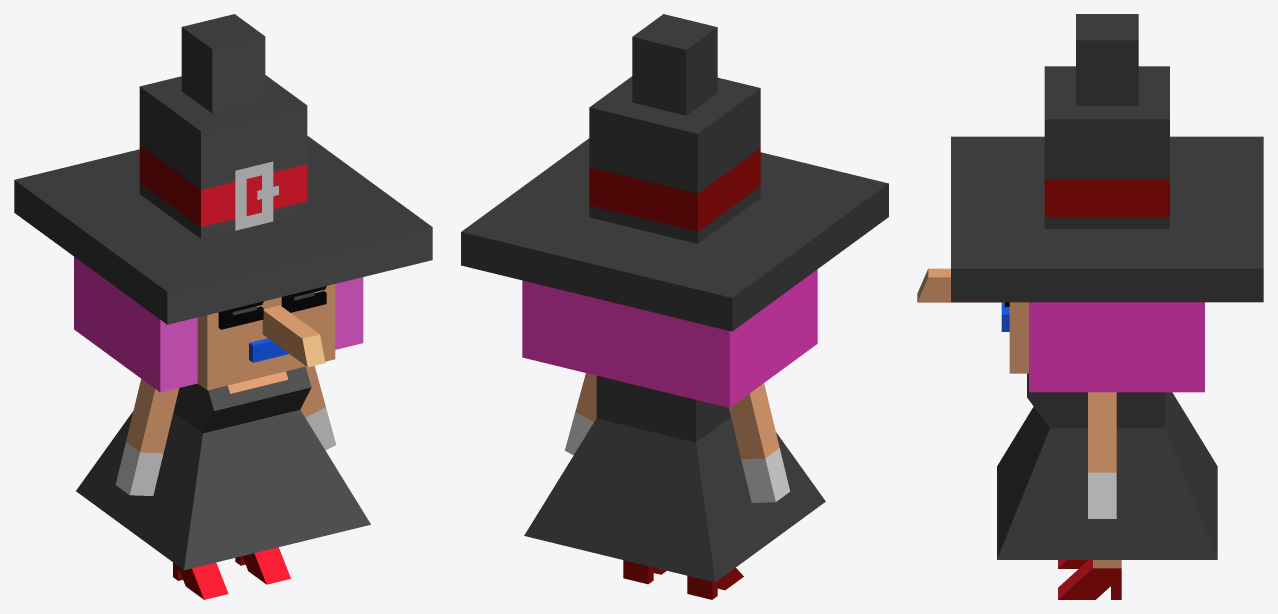
3 views of the same model, side by side, from view 1: azimuth 30°, elevation 25°; view 2: azimuth 150°, elevation 25°; view 3: azimuth 270°, elevation 25° (orthographic). The views are drawn at different scales.
Parts seen in each view (by area): view 1: Ch_47_Head, Ch_47, Ch_47_Chest, Ch_47_Hand_L, Ch_47_Hand_R, Ch_47_Leg_L, Ch_47_Leg_R, Ch_47_Eye_03_L, Ch_47_Eye_03_R; view 2: Ch_47_Head, Ch_47, Ch_47_Chest, Ch_47_Hand_L, Ch_47_Hand_R, Ch_47_Leg_L, Ch_47_Leg_R; view 3: Ch_47_Head, Ch_47, Ch_47_Chest, Ch_47_Hand_R, Ch_47_Leg_R.
Boxes of the visible parts, x1,y1,x2,y2 form: Ch_47_Head: [14, 14, 432, 392]; Ch_47: [76, 410, 370, 570]; Ch_47_Chest: [173, 366, 311, 433]; Ch_47_Hand_L: [115, 379, 179, 495]; Ch_47_Hand_R: [300, 366, 336, 450]; Ch_47_Leg_L: [173, 562, 228, 599]; Ch_47_Leg_R: [235, 547, 290, 584]; Ch_47_Eye_03_L: [218, 301, 263, 329]; Ch_47_Eye_03_R: [281, 286, 326, 312]; Ch_47_Head: [461, 14, 888, 407]; Ch_47: [524, 417, 825, 582]; Ch_47_Chest: [596, 376, 730, 442]; Ch_47_Hand_L: [729, 383, 790, 502]; Ch_47_Hand_R: [565, 373, 596, 454]; Ch_47_Leg_L: [687, 567, 743, 599]; Ch_47_Leg_R: [623, 560, 666, 584]; Ch_47_Head: [917, 14, 1263, 392]; Ch_47: [997, 392, 1217, 559]; Ch_47_Chest: [1027, 373, 1164, 428]; Ch_47_Hand_R: [1088, 392, 1116, 518]; Ch_47_Leg_R: [1058, 560, 1121, 599].
Size of the model in its own units: 6.98 by 13.57 by 7.73.
